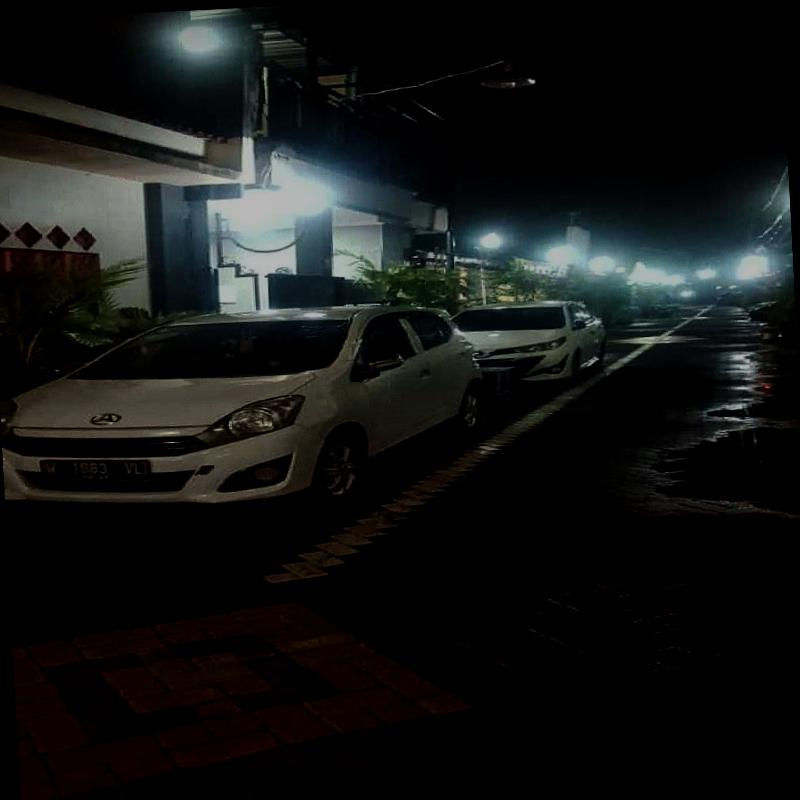license plate on a car: (28, 451, 174, 485)
